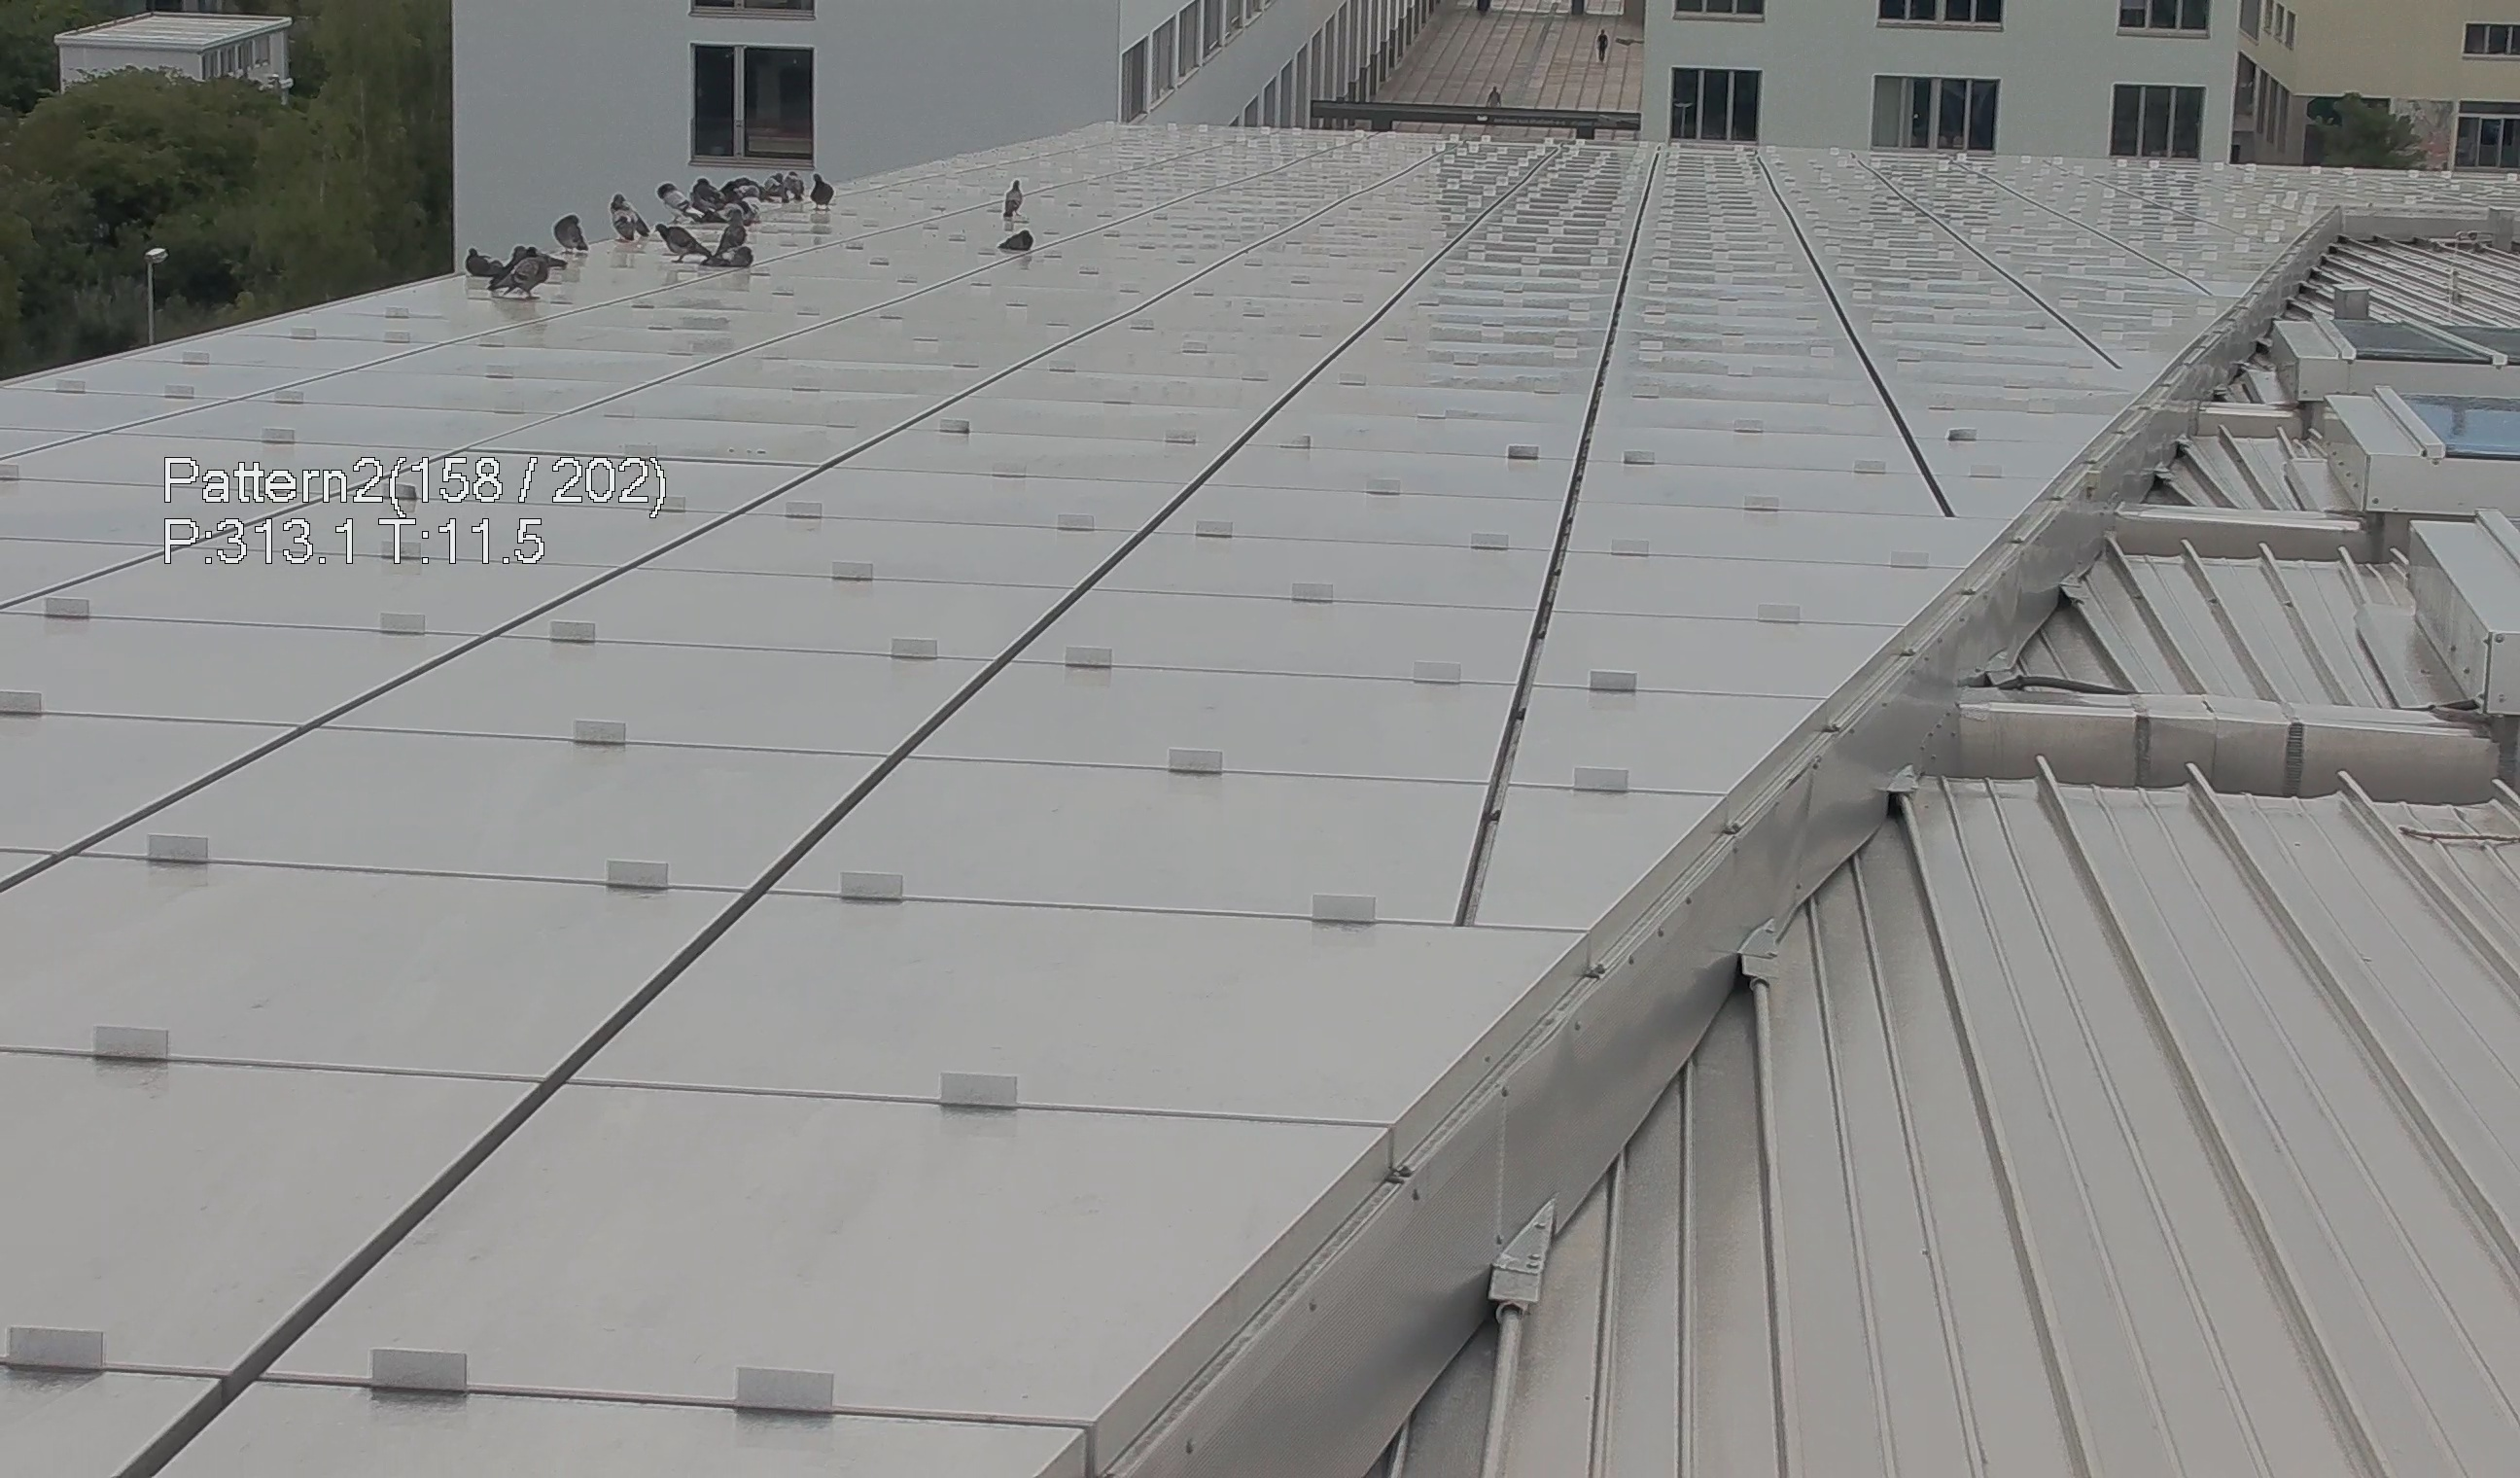Pigeon: (501, 245, 552, 299), (649, 218, 707, 264), (457, 246, 522, 283), (605, 190, 649, 245), (547, 208, 596, 255), (656, 179, 703, 227), (703, 239, 767, 273), (754, 172, 804, 209), (695, 178, 739, 218), (997, 179, 1032, 225), (990, 227, 1038, 260), (804, 172, 835, 215)
